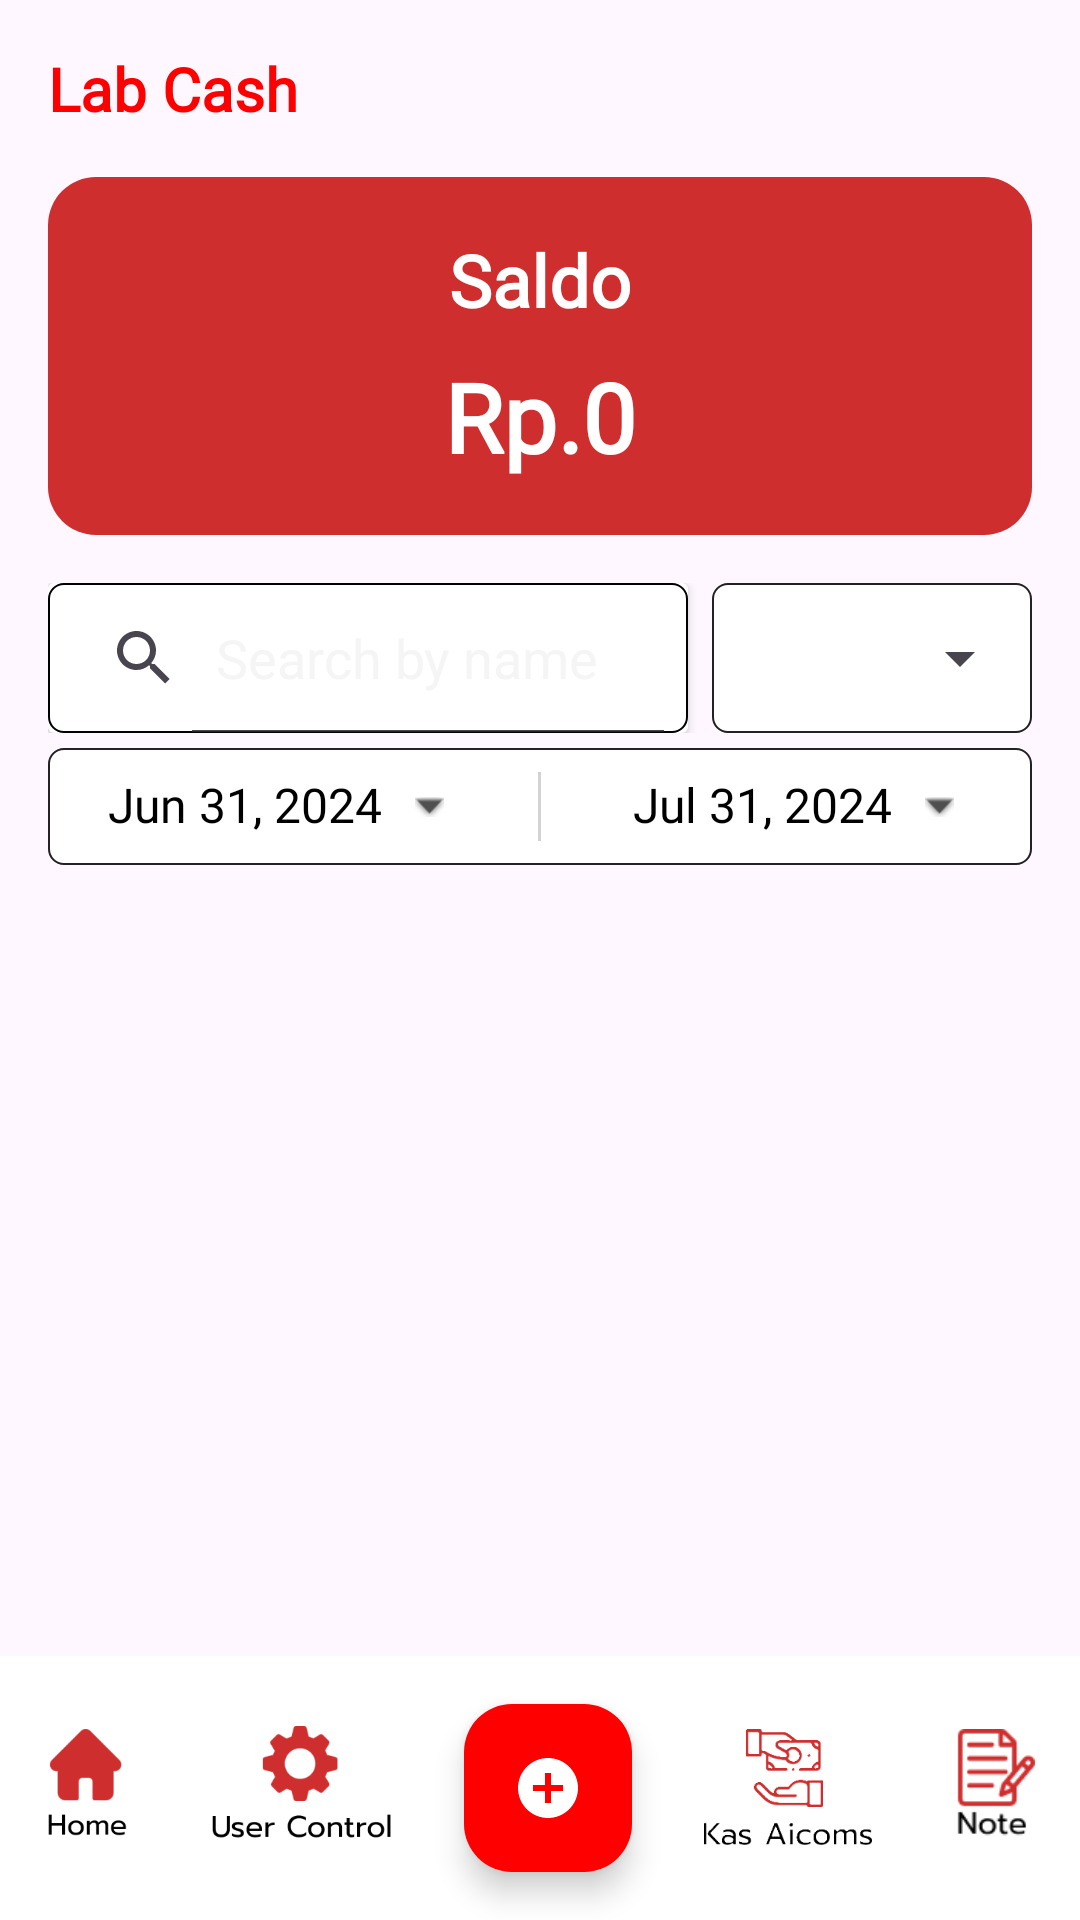

Named icons in this screenshot (1080px x 1920px) and their centers, (x,y):
add circle: (548,1788)
